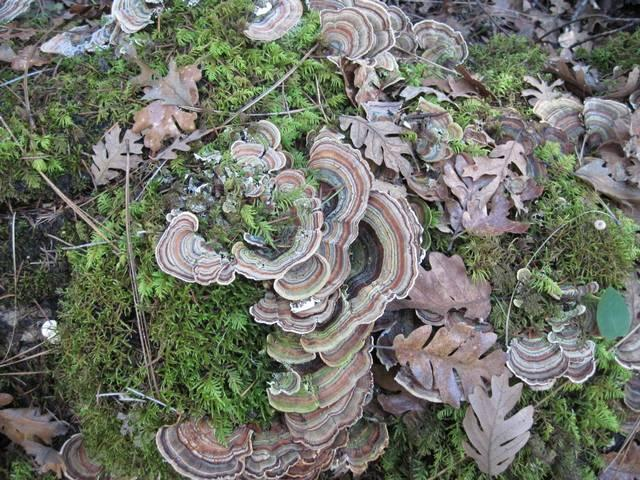Non-edible Mushroom: (152, 118, 424, 479), (316, 5, 478, 103), (531, 87, 637, 159), (504, 294, 585, 371)
